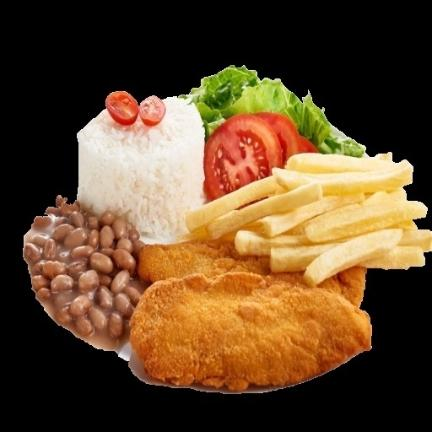beans: (24, 197, 143, 348)
chicken: (132, 240, 371, 390)
potato: (186, 154, 431, 282)
rice: (77, 96, 204, 237)
salad: (181, 66, 335, 153), (336, 138, 362, 154)
tomato: (203, 112, 317, 200), (105, 91, 165, 125)
